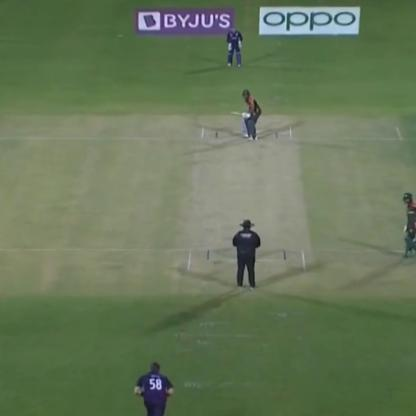bat: (228, 102, 250, 118)
pitch: (187, 124, 303, 270)
